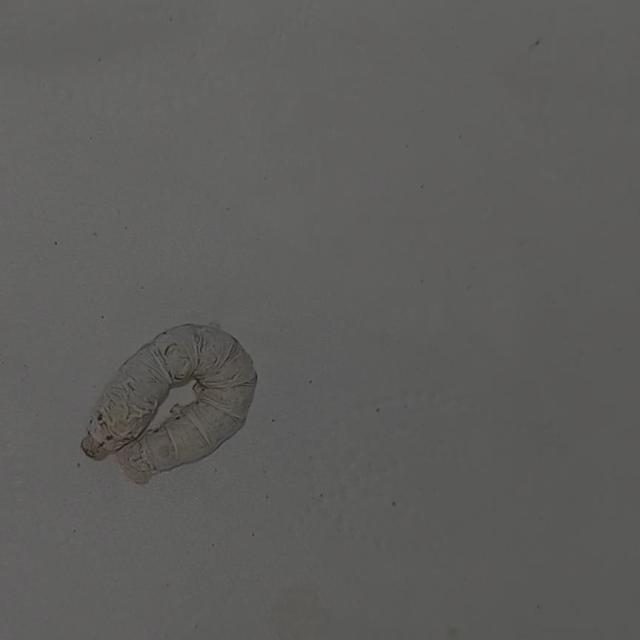Healthy: (45, 297, 273, 501)
